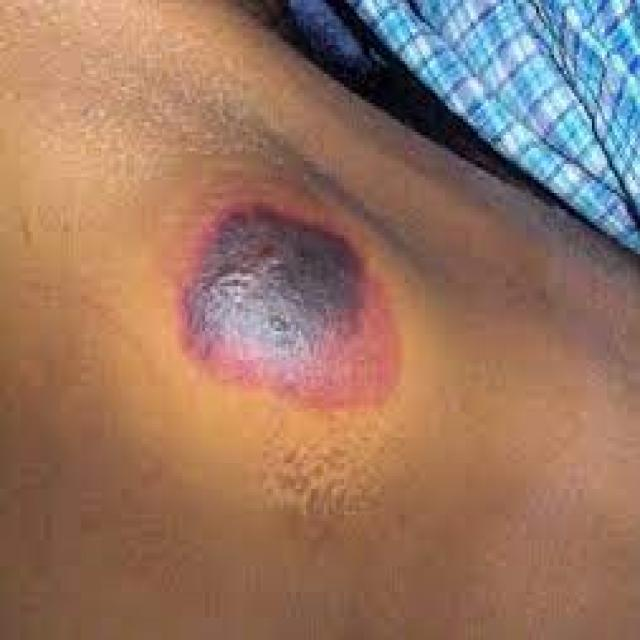DTI: (178, 202, 403, 405)
